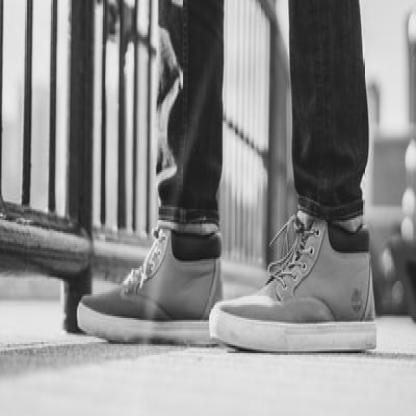ankle: (352, 257, 356, 265), (197, 247, 200, 254)
heel: (371, 316, 375, 322), (208, 306, 209, 312)
left_foot: (216, 235, 376, 352)
pinky: (253, 312, 257, 318), (94, 298, 96, 301)
right_foot: (77, 233, 224, 351)
toe: (94, 308, 97, 312), (231, 304, 234, 307)
